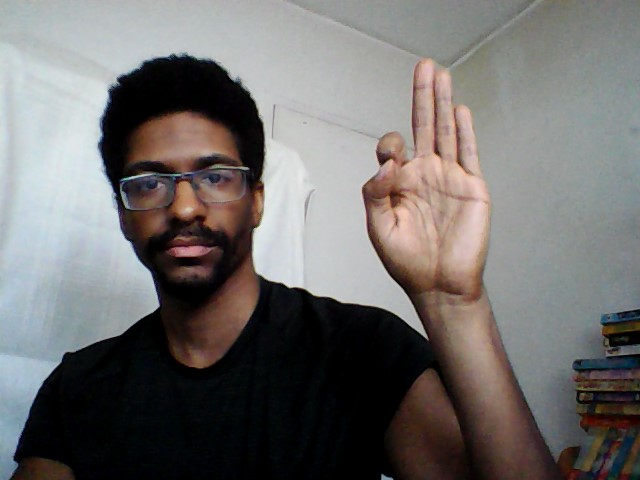f: (356, 53, 492, 302)
